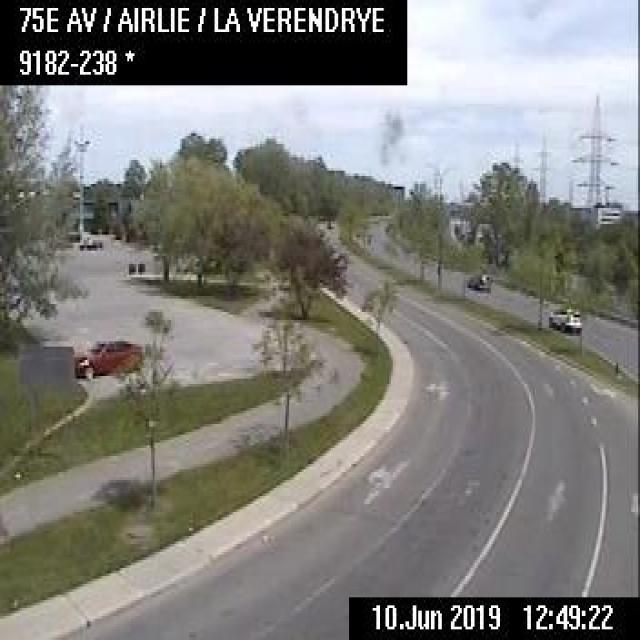vehicle: (72, 335, 143, 376), (547, 304, 582, 333), (466, 272, 494, 291)
